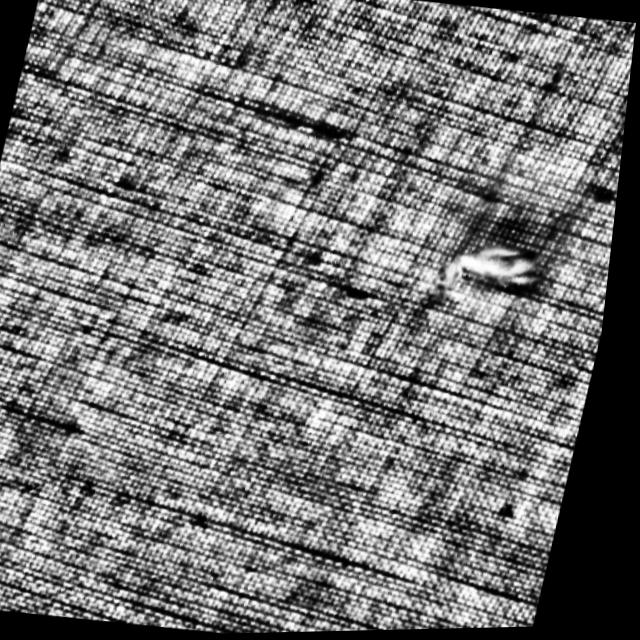Stitch: (407, 214, 581, 331)
